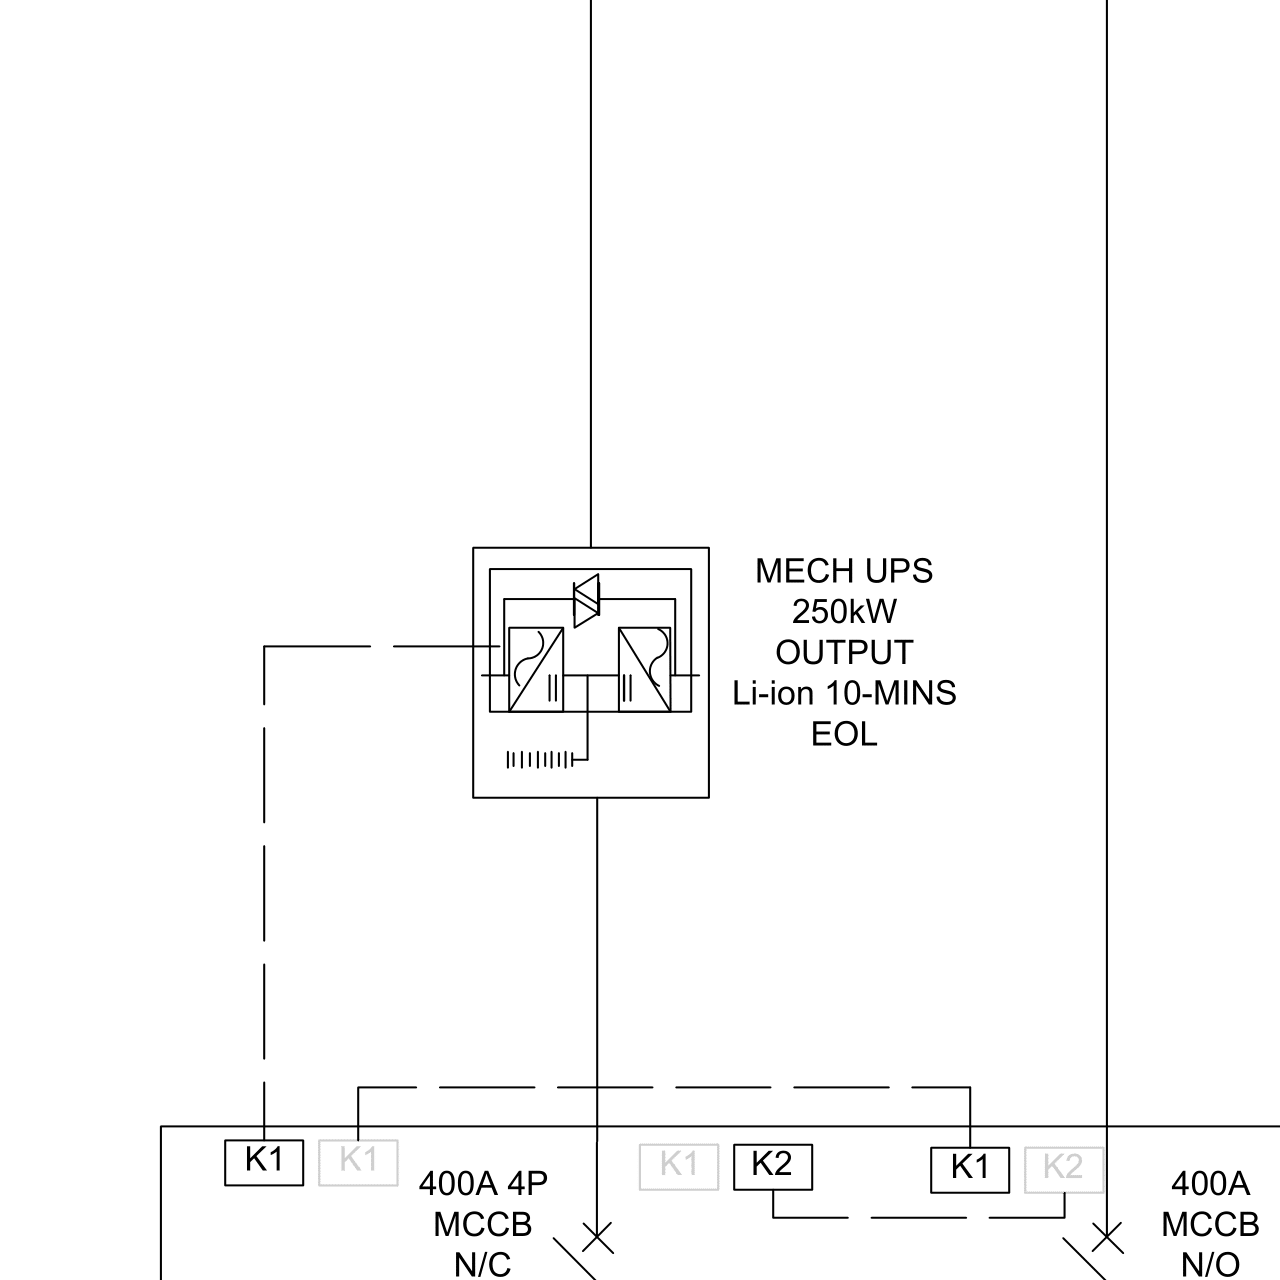UPS: (458, 533, 724, 818)
